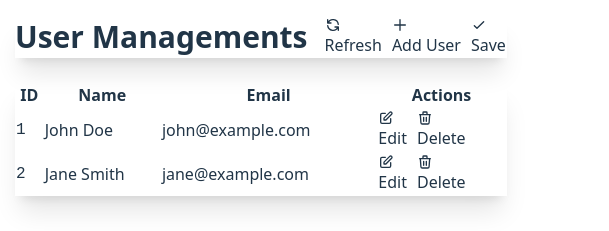
Test: App Component Tests › Edit → Save a row
The image size is (609, 231).
Expected: the text "John Doe" is shown, 45,119 -> 113,141
Click the button "Edit" in the row of "John Doe" at (393, 130), box 377,109 -> 408,151
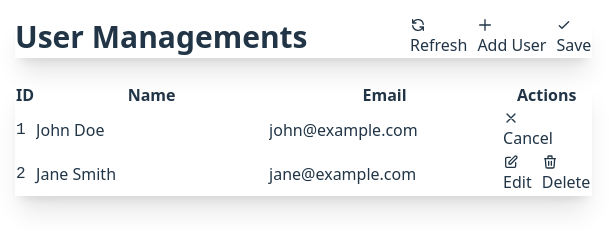
Replace the text in the 1st field with placeholder "Enter username" with "John Updated" at (152, 130), box 36,118 -> 267,142
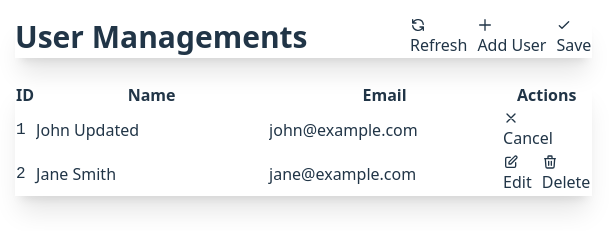
Click the button "Save" at (574, 37), box 556,16 -> 592,58
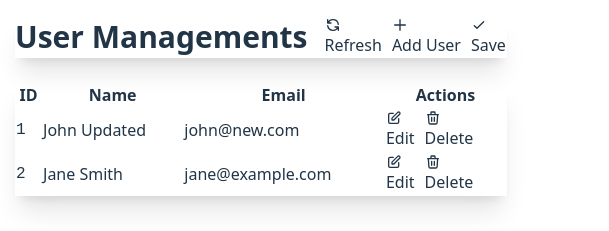
Result: the text "John Updated" is shown at 43,119 -> 146,141
